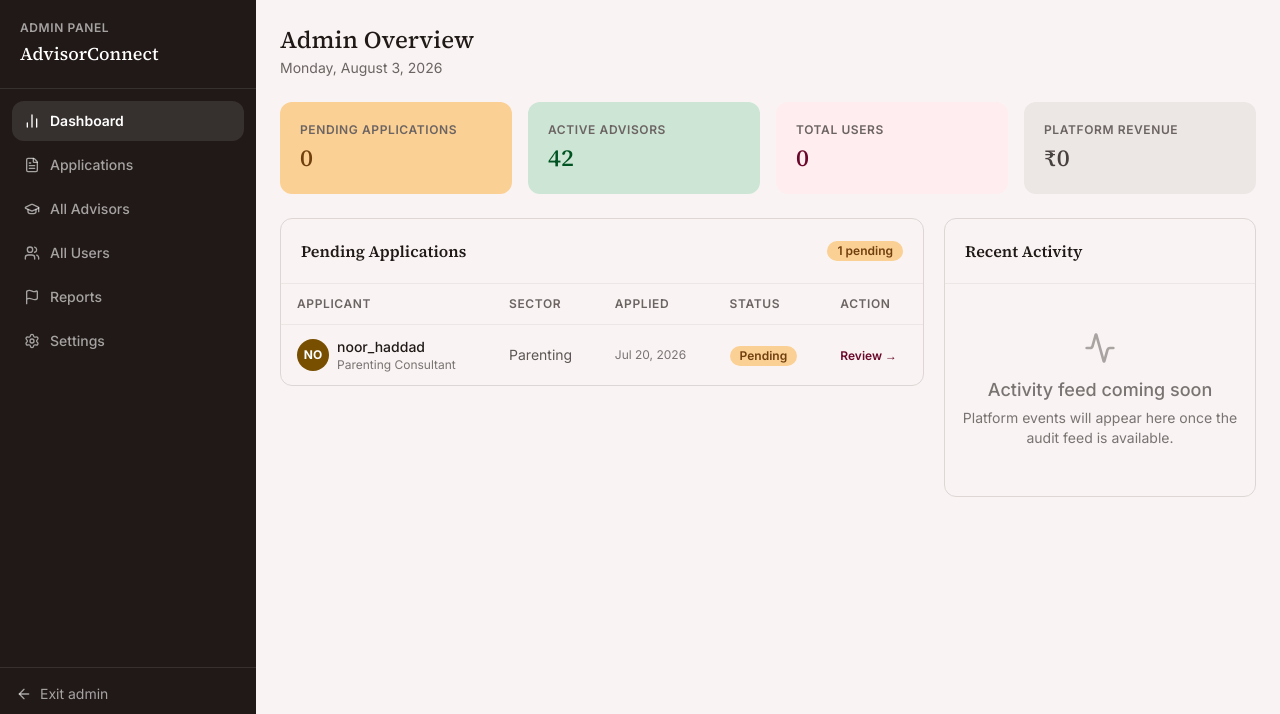
Scenario: AdminDashboardPage › detail panel row selection › re-targets when a different row is reviewed, so the panel is not sticky
What coordinates should you click on to do the following:
click the button "Applications"
I would click on:
 (128, 165)
Its box is [12,145,244,185].
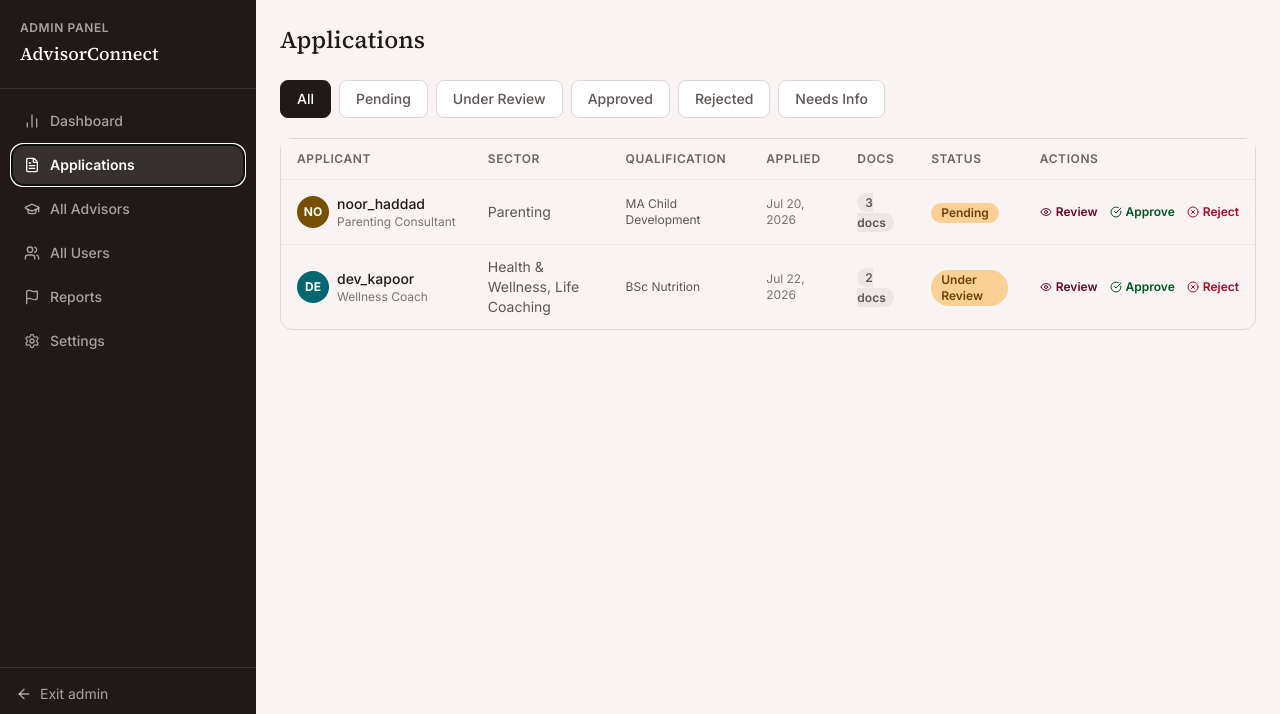
What coordinates should you click on to do the following:
click the button "Review" in the row of "dev_kapoor"
I would click on:
 (1069, 287)
Its box is [1040,279,1098,295].
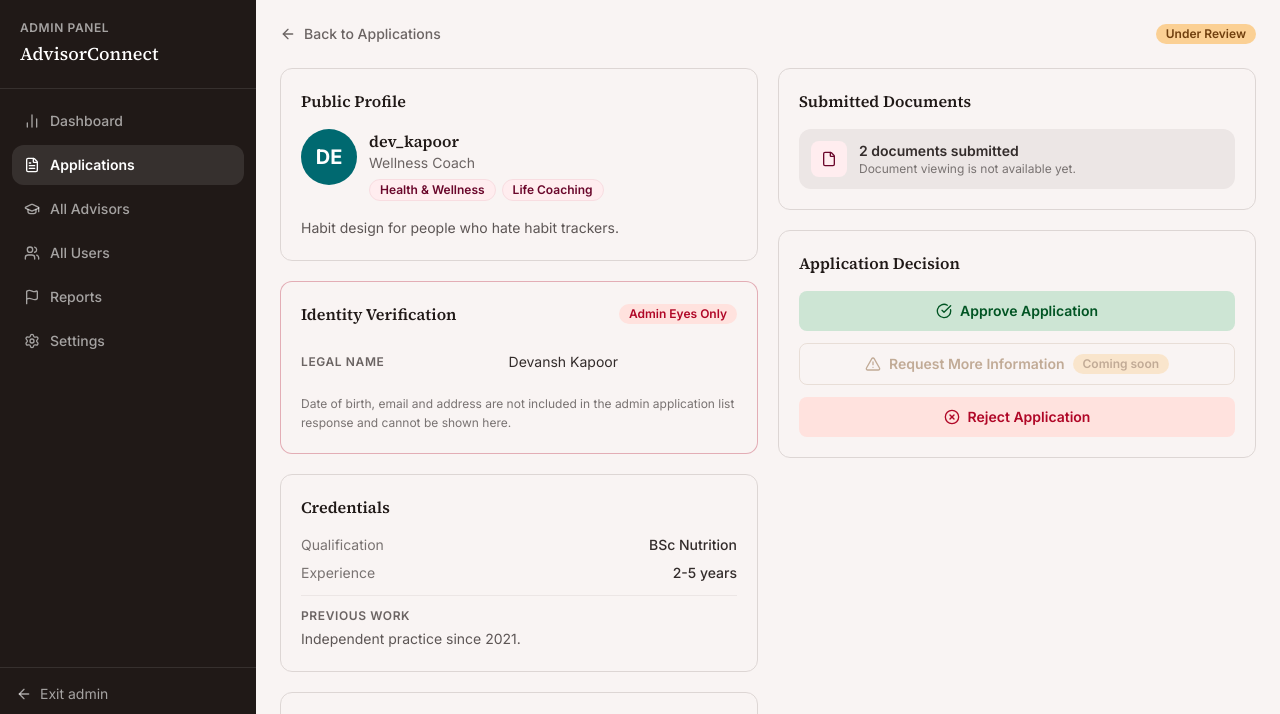
Now the text "Devansh Kapoor" is shown, box [508,342,737,382]
What coordinates should you click on to do the following:
click the button "Back to Applications"
I would click on:
 (360, 34)
Its box is [280,24,441,44].
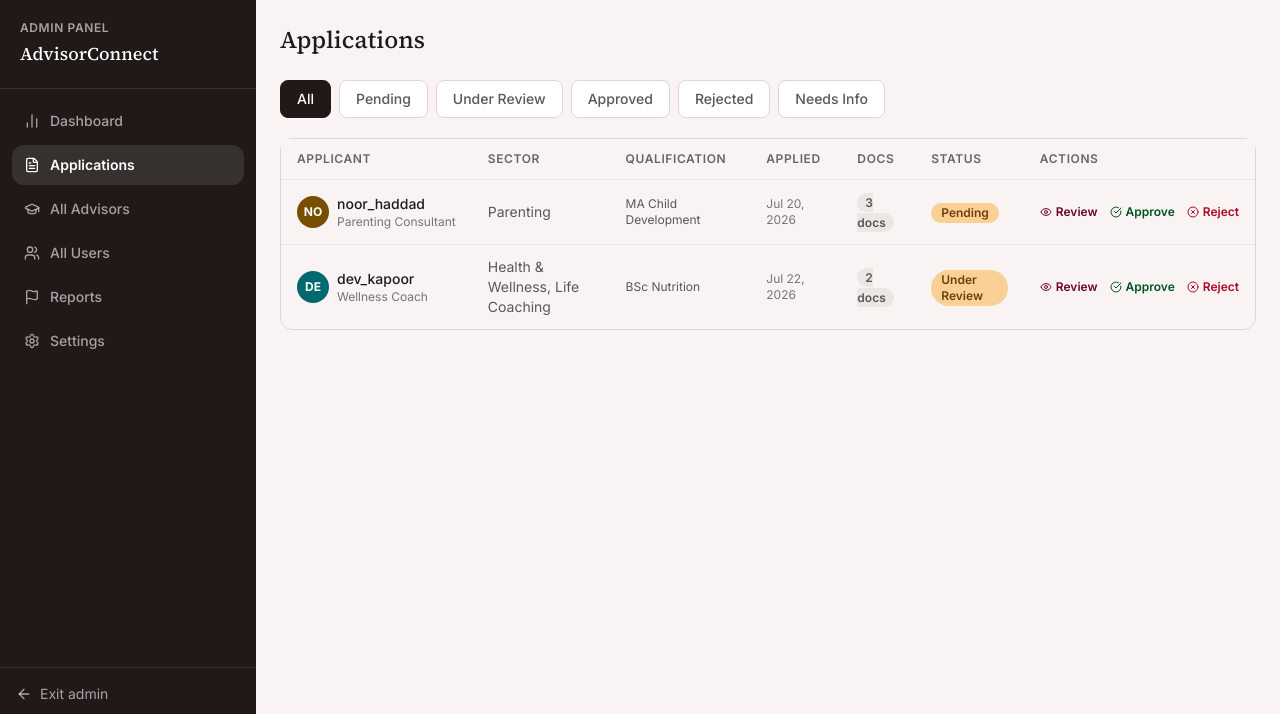
What coordinates should you click on to do the following:
click the button "Review" in the row of "noor_haddad"
I would click on:
 (1069, 212)
Its box is [1040,204,1098,220].
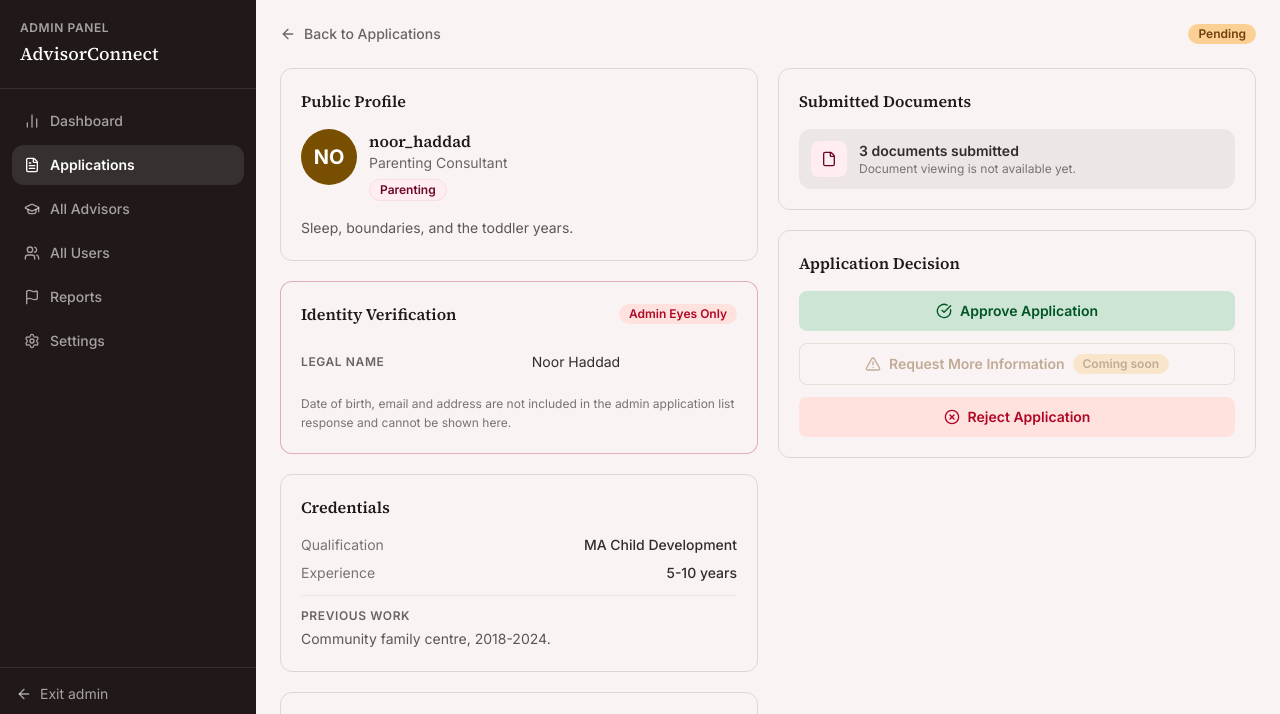
Expected: the text "Devansh Kapoor" is not shown
Now the text "Noor Haddad" is shown, box [532,342,737,382]
